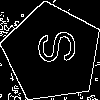S: (27, 28, 78, 68)
